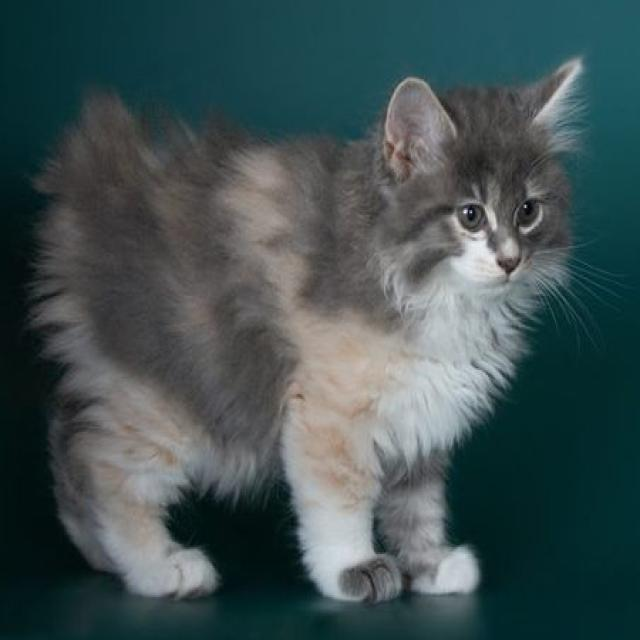American Bobtail: (20, 49, 591, 608)
